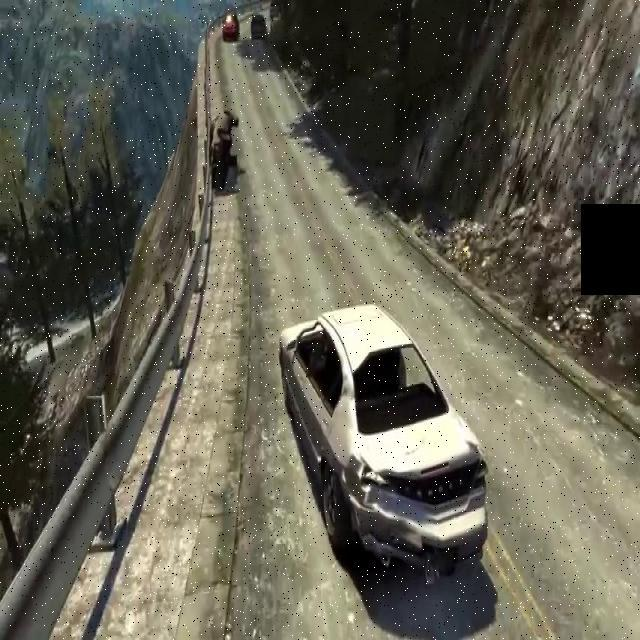severe: (206, 103, 240, 197)
